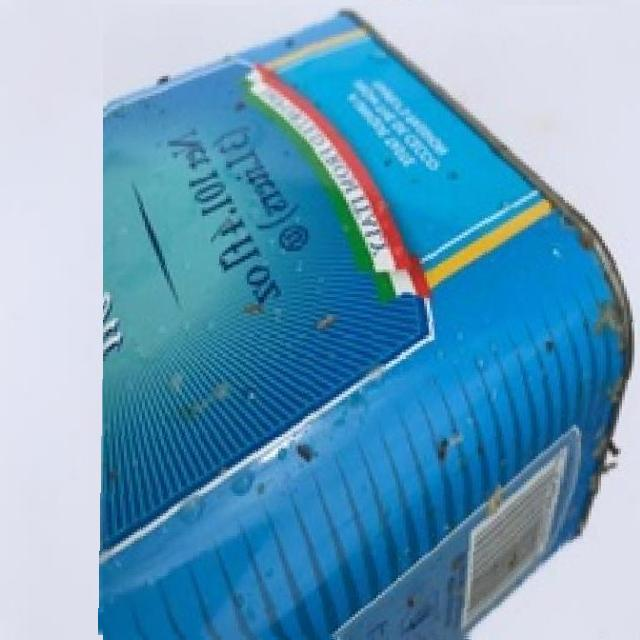recyclable: (100, 5, 640, 640)
